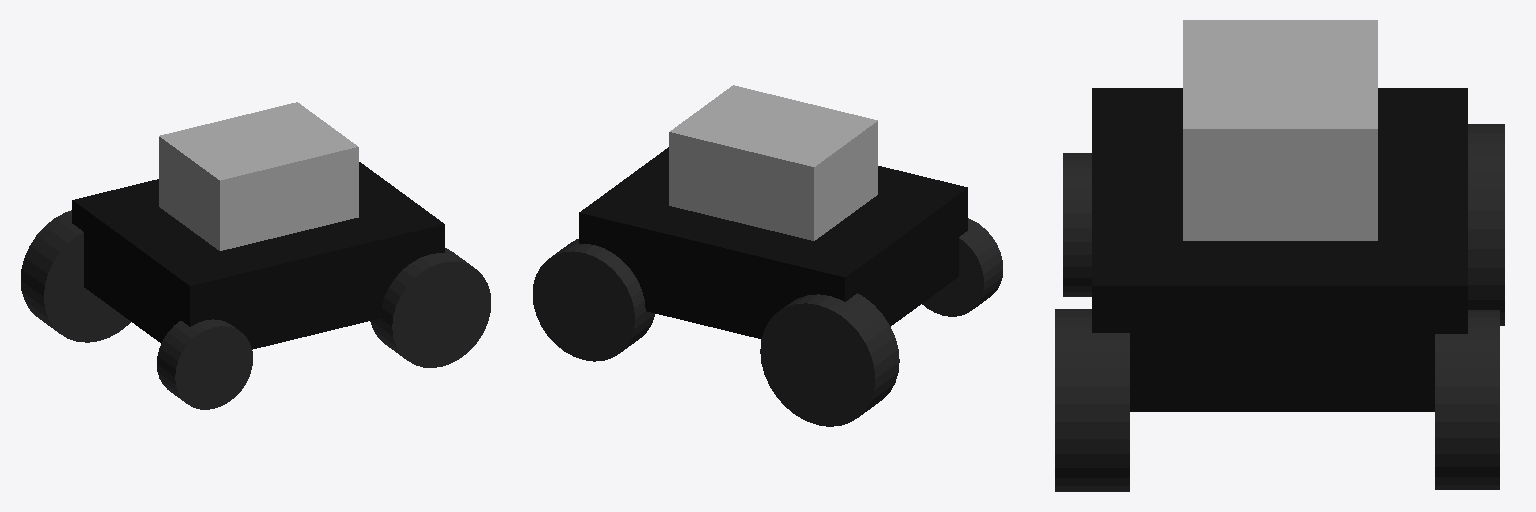
URDF robot description (evolved_robot):
<?xml version="1.0"?>
<robot name="evolved_robot">
  <material name="metal">
    <color rgba="0.7 0.7 0.7 1.0"/>
  </material>
  <material name="plastic">
    <color rgba="0.3 0.3 0.9 1.0"/>
  </material>
  <material name="rubber">
    <color rgba="0.1 0.1 0.1 1.0"/>
  </material>
  <material name="red">
    <color rgba="1.0 0.0 0.0 1.0"/>
  </material>
  <material name="wheel_material">
    <color rgba="0.2 0.2 0.2 1.0"/>
  </material>
  <link name="base_link">
    <visual>
      <geometry><box size="0.3461818460600068 0.27719624380797636 0.102205314231111"/></geometry>
      <material name="rubber"/>
    </visual>
    <collision>
      <geometry><box size="0.3461818460600068 0.27719624380797636 0.102205314231111"/></geometry>
    </collision>
    <inertial>
      <mass value="5.0"/>
      <inertia ixx="0.07273640319860934" ixy="0" ixz="0" 
               iyy="0.10857316399882865" iyz="0" 
               izz="0.1638996901023044"/>
    </inertial>
  </link>
  <link name="link1">
    <visual>
      <geometry>
        <cylinder radius="0.06670471469110492" length="0.04833046047246495"/>
      </geometry>
      <material name="wheel_material"/>
    </visual>
    <collision>
      <geometry>
        <cylinder radius="0.06670471469110492" length="0.04833046047246495"/>
      </geometry>
    </collision>
    <inertial>
      <mass value="1.0"/>
      <inertia ixx="0.0013070325246288018" ixy="0" ixz="0" 
               iyy="0.0013070325246288018" iyz="0" 
               izz="0.002224759481010854"/>
    </inertial>
  </link>
  <joint name="joint1" type="continuous">
    <parent link="base_link"/>
    <child link="link1"/>
    <origin xyz="0.1530909230300034 0.13859812190398818 -0.0511026571155555" rpy="1.5708 0 0"/>
    <axis xyz="0 0 1"/>
    <dynamics damping="0.9212135507331041" friction="0.1"/>
  </joint>
  <link name="link2">
    <visual>
      <geometry>
        <cylinder radius="0.06747094367397934" length="0.05501051008698092"/>
      </geometry>
      <material name="wheel_material"/>
    </visual>
    <collision>
      <geometry>
        <cylinder radius="0.06747094367397934" length="0.05501051008698092"/>
      </geometry>
    </collision>
    <inertial>
      <mass value="1.0"/>
      <inertia ixx="0.0013902617450668089" ixy="0" ixz="0" 
               iyy="0.0013902617450668089" iyz="0" 
               izz="0.002276164120128646"/>
    </inertial>
  </link>
  <joint name="joint2" type="continuous">
    <parent link="base_link"/>
    <child link="link2"/>
    <origin xyz="0.1530909230300034 -0.13859812190398818 -0.0511026571155555" rpy="1.5708 0 0"/>
    <axis xyz="0 0 1"/>
    <dynamics damping="0.9355285045725612" friction="0.1"/>
  </joint>
  <link name="link3">
    <visual>
      <geometry>
        <cylinder radius="0.07479972298396817" length="0.054944351765301117"/>
      </geometry>
      <material name="wheel_material"/>
    </visual>
    <collision>
      <geometry>
        <cylinder radius="0.07479972298396817" length="0.054944351765301117"/>
      </geometry>
    </collision>
    <inertial>
      <mass value="1.0"/>
      <inertia ixx="0.0016503231221953562" ixy="0" ixz="0" 
               iyy="0.0016503231221953562" iyz="0" 
               izz="0.002797499279239188"/>
    </inertial>
  </link>
  <joint name="joint3" type="continuous">
    <parent link="base_link"/>
    <child link="link3"/>
    <origin xyz="-0.1530909230300034 0.13859812190398818 -0.0511026571155555" rpy="1.5708 0 0"/>
    <axis xyz="0 0 1"/>
    <dynamics damping="0.388106697132232" friction="0.1"/>
  </joint>
  <link name="link4">
    <visual>
      <geometry><box size="0.18874158753518278 0.14396991138942847 0.1836061289517429"/></geometry>
      <material name="metal"/>
    </visual>
    <collision>
      <geometry><box size="0.18874158753518278 0.14396991138942847 0.1836061289517429"/></geometry>
    </collision>
    <inertial>
      <mass value="0.5"/>
      <inertia ixx="0.00453654549784366" ixy="0" ixz="0" 
               iyy="0.005777883121162092" iyz="0" 
               izz="0.004695893520898412"/>
    </inertial>
  </link>
  <joint name="joint4" type="revolute">
    <parent link="base_link"/>
    <child link="link4"/>
    <origin xyz="0 0 0.0511026571155555" rpy="0 0 0"/>
    <axis xyz="0.3023025687106004 -0.560505016275113 0.7710040750095994"/>
    <dynamics damping="0.8309726762779235" friction="0.1"/>
    <limit lower="-1.3313563404960427" upper="1.479267732639967" effort="100" velocity="100"/>
  </joint>
  <link name="link5">
    <visual>
      <geometry>
        <cylinder radius="0.05302810832666559" length="0.04356300161681845"/>
      </geometry>
      <material name="wheel_material"/>
    </visual>
    <collision>
      <geometry>
        <cylinder radius="0.05302810832666559" length="0.04356300161681845"/>
      </geometry>
    </collision>
    <inertial>
      <mass value="1.0"/>
      <inertia ixx="0.0008611396606650556" ixy="0" ixz="0" 
               iyy="0.0008611396606650556" iyz="0" 
               izz="0.0014059901363522901"/>
    </inertial>
  </link>
  <joint name="joint5" type="continuous">
    <parent link="base_link"/>
    <child link="link5"/>
    <origin xyz="-0.1530909230300034 -0.13859812190398818 -0.0511026571155555" rpy="1.5708 0 0"/>
    <axis xyz="0 0 1"/>
    <dynamics damping="0.4669252455130477" friction="0.1"/>
  </joint>
</robot>

--- Facts derived from the render (not from the file) ---
Views: 3 orthographic renders of the robot side by side, from view 1: azimuth 30°, elevation 25°; view 2: azimuth 150°, elevation 25°; view 3: azimuth 270°, elevation 25°.
Robot: evolved_robot — 6 links, 5 joints (1 revolute, 4 continuous); root link base_link; default pose: every joint at zero.
Visible links, largest first — view 1: base_link, link4, link2, link3, link5; view 2: base_link, link4, link3, link1, link5; view 3: base_link, link4, link2, link1, link3, link5.
Link boxes in pixels (x1=…): base_link: x1=72, y1=162, x2=444, y2=349; link4: x1=159, y1=102, x2=358, y2=250; link2: x1=370, y1=248, x2=490, y2=367; link3: x1=21, y1=210, x2=130, y2=342; link5: x1=157, y1=319, x2=252, y2=409; base_link: x1=579, y1=147, x2=967, y2=338; link4: x1=669, y1=85, x2=877, y2=240; link3: x1=760, y1=293, x2=899, y2=426; link1: x1=533, y1=239, x2=654, y2=361; link5: x1=922, y1=218, x2=1002, y2=316; base_link: x1=1092, y1=88, x2=1467, y2=411; link4: x1=1183, y1=20, x2=1377, y2=240; link2: x1=1055, y1=309, x2=1129, y2=491; link1: x1=1435, y1=310, x2=1499, y2=489; link3: x1=1468, y1=124, x2=1504, y2=325; link5: x1=1063, y1=153, x2=1091, y2=296.
Bounding box of the posed robot: 0.4485 × 0.3322 × 0.2688 m (x, y, z).
Geometry: primitives only (box / cylinder / sphere), no mesh files.